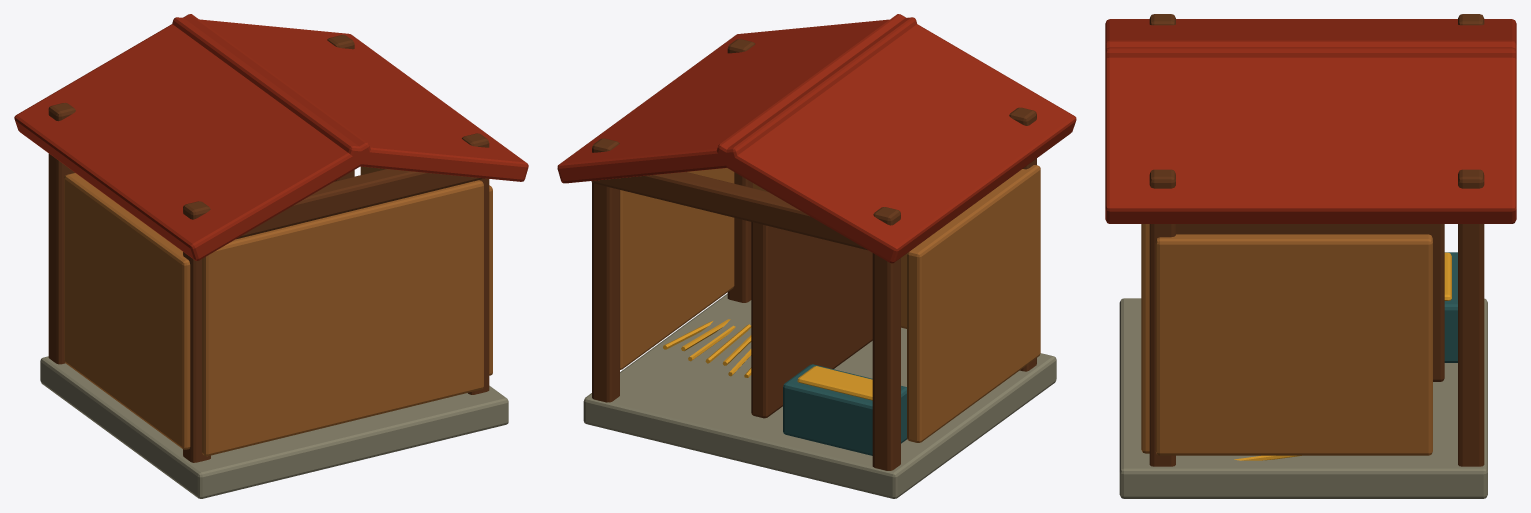
Rendered from HorseStable.glb.
3 renders of one model, left to right at view 1: azimuth 30°, elevation 25°; view 2: azimuth 150°, elevation 25°; view 3: azimuth 270°, elevation 25°, orthographic. The views are drawn at different scales.
Parts seen in each view (by area): view 1: HorseStable_Walls, HorseStable_Roof, HorseStable_Stone, HorseStable_Frame; view 2: HorseStable_Roof, HorseStable_Walls, HorseStable_Frame, HorseStable_Stone, HorseStable_Trough, HorseStable_Straw; view 3: HorseStable_Roof, HorseStable_Walls, HorseStable_Stone, HorseStable_Frame, HorseStable_Trough.
Part boxes in pixels (x1,y1,x2,y2): HorseStable_Walls: [64, 166, 492, 456]; HorseStable_Roof: [14, 14, 528, 260]; HorseStable_Stone: [40, 356, 508, 498]; HorseStable_Frame: [48, 35, 489, 462]; HorseStable_Roof: [557, 14, 1076, 263]; HorseStable_Walls: [620, 165, 1040, 442]; HorseStable_Frame: [591, 39, 1036, 470]; HorseStable_Stone: [583, 293, 1056, 498]; HorseStable_Trough: [783, 364, 907, 455]; HorseStable_Straw: [663, 319, 751, 377]; HorseStable_Roof: [1105, 19, 1516, 223]; HorseStable_Walls: [1141, 224, 1432, 455]; HorseStable_Stone: [1119, 298, 1487, 498]; HorseStable_Frame: [1149, 14, 1484, 466]; HorseStable_Trough: [1444, 252, 1457, 362].
Size of the model in its own units: 1.87 by 1.7 by 1.72.
